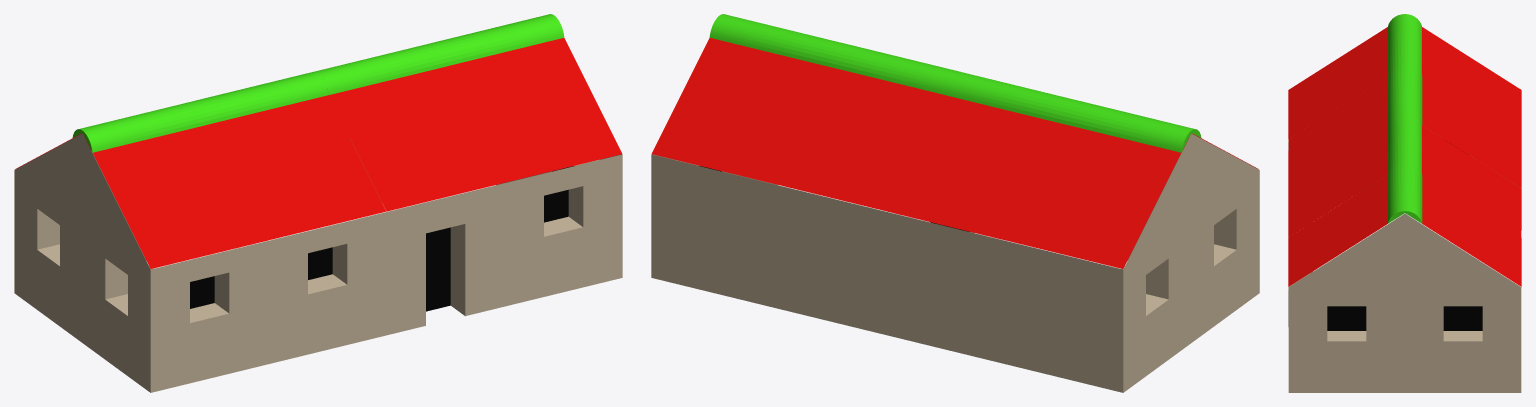
The model's file is env_house_02.fbx.
3 renders of one model, left to right at view 1: azimuth 30°, elevation 25°; view 2: azimuth 150°, elevation 25°; view 3: azimuth 270°, elevation 25°, orthographic. The views are drawn at different scales.
Parts seen in each view (by area): view 1: RoofFinal.004, RoofFinal.003, RoofFinal.001, RoofFinal.002, Window_Final.001, Window_Final.003, Window_Final.002, Door_Final.001, Tri_Win_R_Final.002, Tri_Win_L_Final.002; view 2: RoofFinal.004, RoofFinal.001, RoofFinal.002, RoofFinal.003, Wall_Final.001, Wall_Final.003, Wall_Final.004, Wall_Final.002, Tri_Win_L_Final.002, Tri_Win_R_Final.002; view 3: Tri_Win_R_Final.001, Tri_Win_L_Final.001, RoofFinal.001, RoofFinal.002, RoofFinal.004, RoofFinal.003.
Boxes of the visible parts, x1=… form: RoofFinal.004: x1=15, y1=100, x2=268, y2=268; RoofFinal.003: x1=315, y1=43, x2=504, y2=211; RoofFinal.001: x1=432, y1=14, x2=622, y2=182; RoofFinal.002: x1=197, y1=71, x2=386, y2=239; Window_Final.001: x1=504, y1=154, x2=622, y2=306; Window_Final.003: x1=268, y1=212, x2=386, y2=363; Window_Final.002: x1=150, y1=241, x2=268, y2=392; Door_Final.001: x1=386, y1=183, x2=504, y2=335; Tri_Win_R_Final.002: x1=82, y1=134, x2=152, y2=392; Tri_Win_L_Final.002: x1=14, y1=133, x2=82, y2=342; RoofFinal.004: x1=1005, y1=100, x2=1258, y2=268; RoofFinal.001: x1=651, y1=14, x2=840, y2=182; RoofFinal.002: x1=887, y1=71, x2=1076, y2=240; RoofFinal.003: x1=769, y1=42, x2=958, y2=211; Wall_Final.001: x1=651, y1=154, x2=769, y2=306; Wall_Final.003: x1=887, y1=212, x2=1005, y2=363; Wall_Final.004: x1=1005, y1=241, x2=1123, y2=392; Wall_Final.002: x1=769, y1=183, x2=887, y2=335; Tri_Win_L_Final.002: x1=1121, y1=133, x2=1191, y2=392; Tri_Win_R_Final.002: x1=1191, y1=134, x2=1259, y2=342; Tri_Win_R_Final.001: x1=1405, y1=213, x2=1521, y2=392; Tri_Win_L_Final.001: x1=1288, y1=214, x2=1404, y2=392; RoofFinal.001: x1=1288, y1=161, x2=1521, y2=286; RoofFinal.002: x1=1288, y1=63, x2=1521, y2=188; RoofFinal.004: x1=1288, y1=14, x2=1521, y2=138; RoofFinal.003: x1=1288, y1=112, x2=1521, y2=237.
Size of the model in its own units: 400 by 172 by 200.
